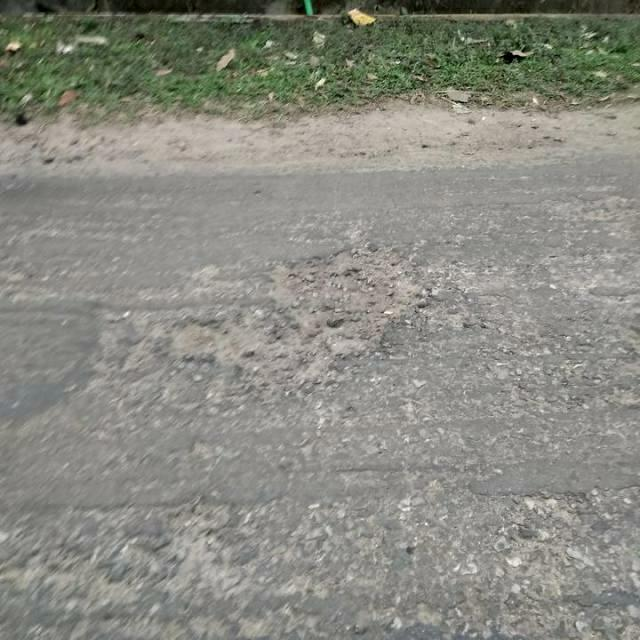Pothole: (168, 232, 433, 388)
